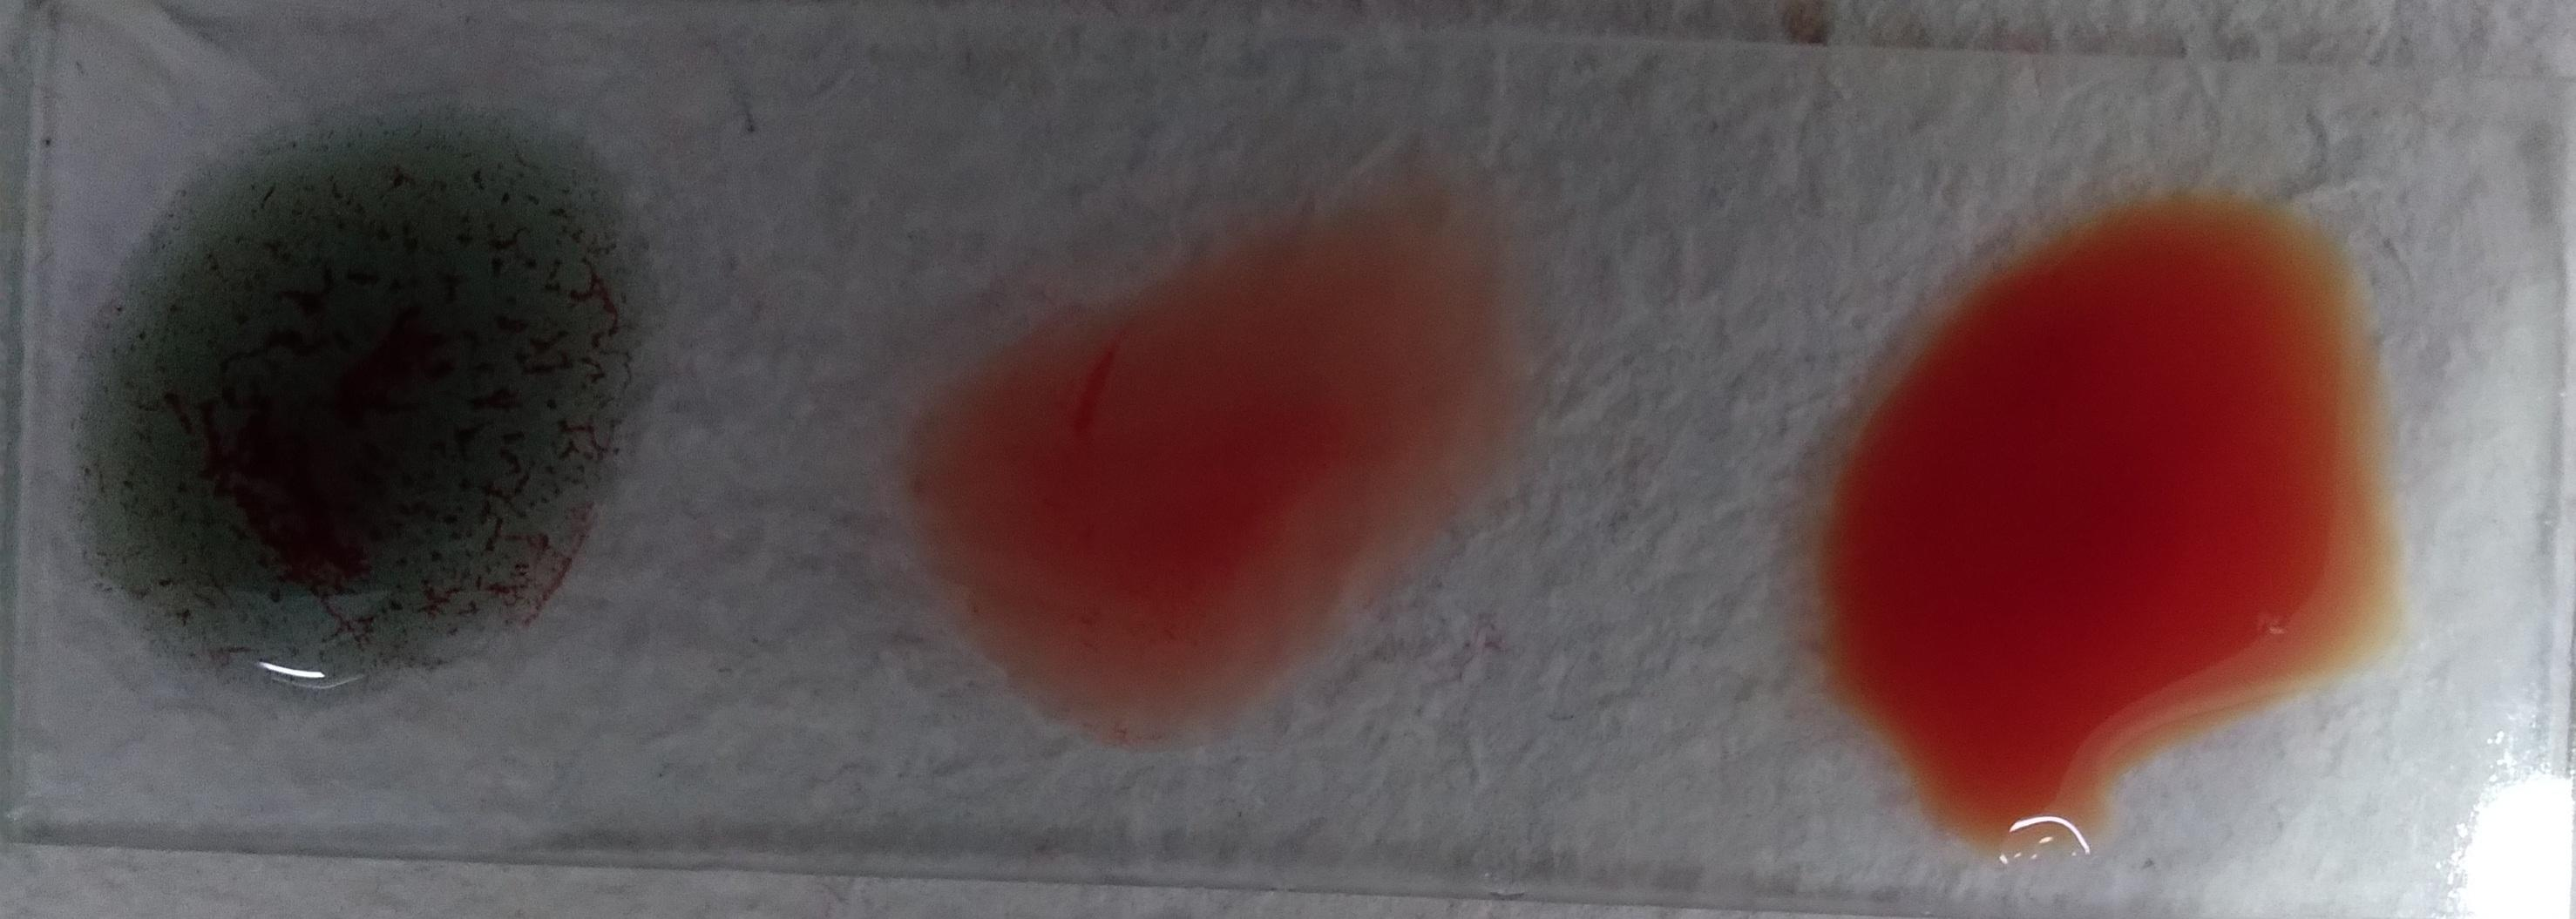A: (1929, 210, 2507, 819)
